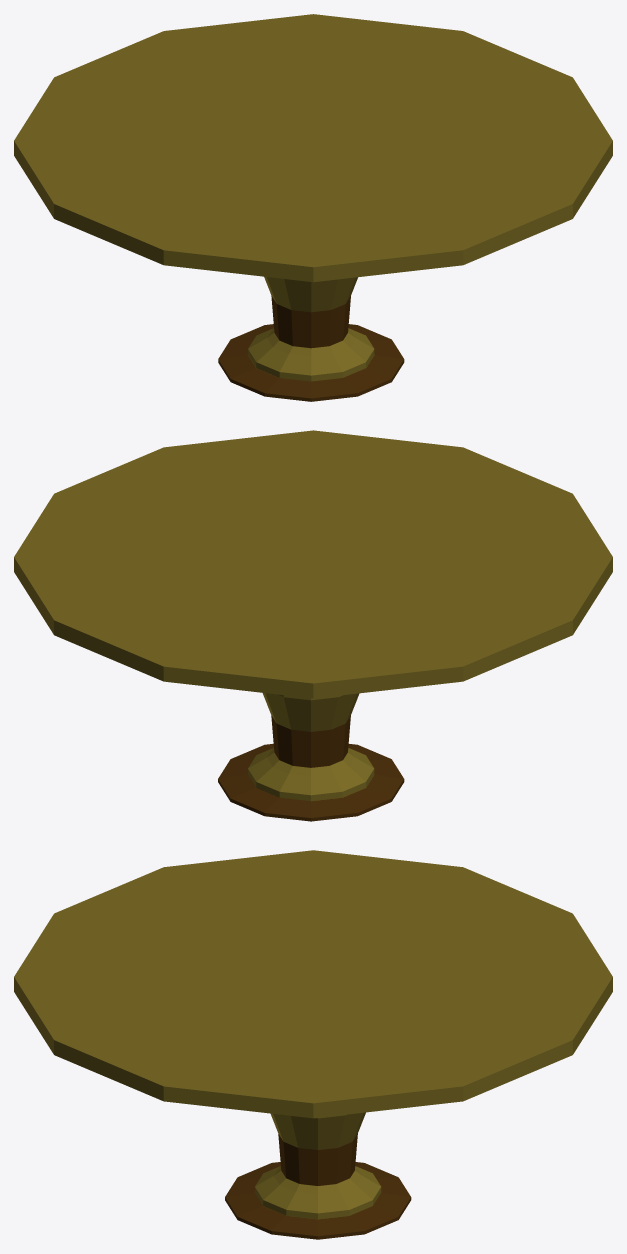
Rendered from MOD_Mesa.fbx.
3 renders of one model, top to bottom at view 1: azimuth 30°, elevation 25°; view 2: azimuth 150°, elevation 25°; view 3: azimuth 270°, elevation 25°, orthographic.
Parts seen in each view (by area): view 1: Mesa; view 2: Mesa; view 3: Mesa.
Boxes of the visible parts, left/top/right/bottom form: Mesa: left=14, top=14, right=612, bottom=401; Mesa: left=14, top=430, right=612, bottom=821; Mesa: left=14, top=850, right=612, bottom=1239.
Size of the model in its own units: 1200 by 494 by 1200.
